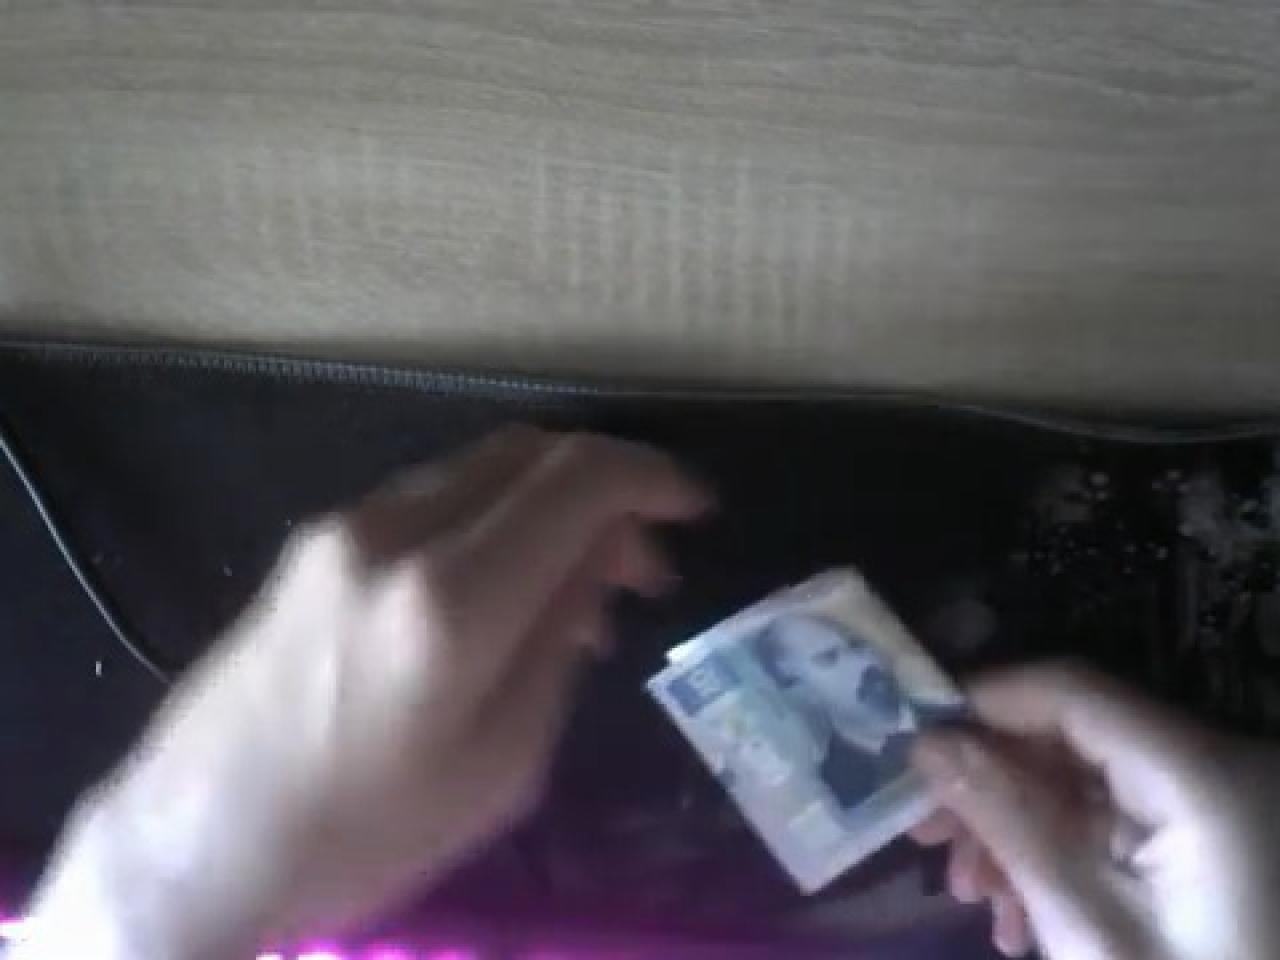20leva: (640, 563, 982, 902)
